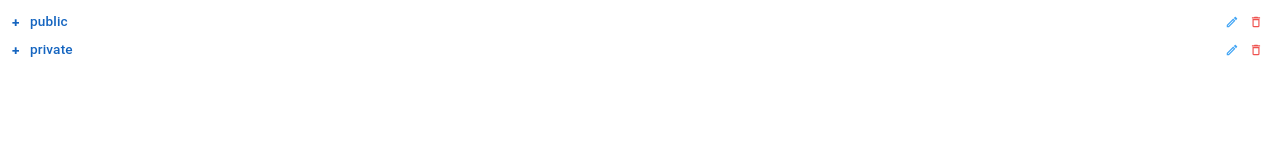
Test: ObjectTree › shows "-" prefix when schema is expanded
The image size is (1277, 160).
Click the text with test id "toggle-schema-public" at (16, 22), box [12, 14, 20, 30]
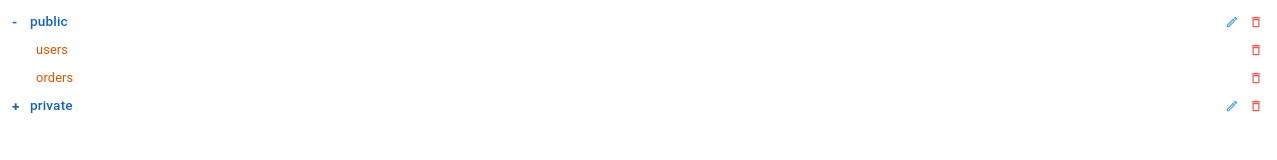
Expected: the text with test id "toggle-schema-public" reads "-", [12, 14, 17, 30]
